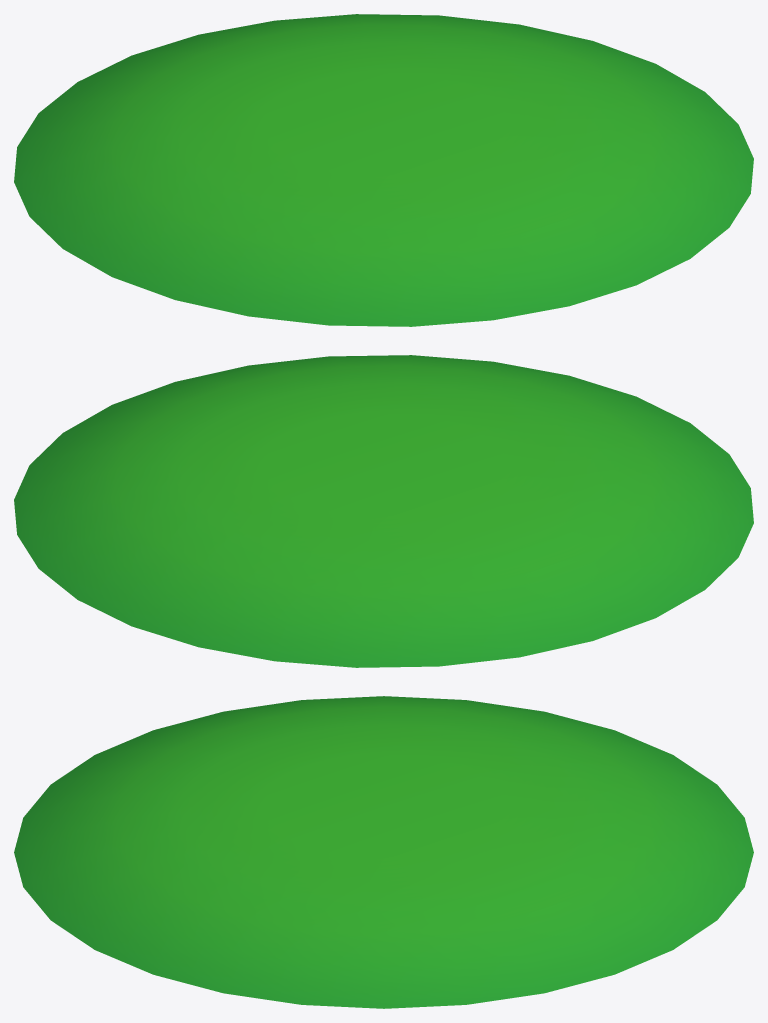
File: Park_GrassHill_A.glb
3 renders of one model, top to bottom at view 1: azimuth 30°, elevation 25°; view 2: azimuth 150°, elevation 25°; view 3: azimuth 270°, elevation 25°, orthographic.
Visible parts, largest first — view 1: Park_GrassHill_A; view 2: Park_GrassHill_A; view 3: Park_GrassHill_A.
Part boxes in pixels (x1=…): Park_GrassHill_A: x1=14, y1=14, x2=753, y2=326; Park_GrassHill_A: x1=14, y1=355, x2=753, y2=667; Park_GrassHill_A: x1=14, y1=696, x2=753, y2=1008.
Bounding box in the file's own units: 18.17 × 1.25 × 18.17.
1 material, 1 textured.
